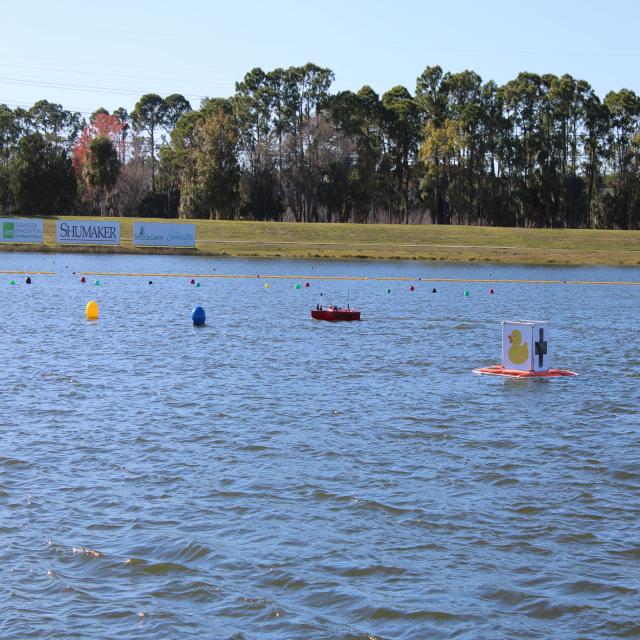blue-buoy: (194, 302, 208, 326)
green-buoy: (464, 290, 470, 296), (387, 287, 392, 293), (10, 280, 14, 286)
red-buoy: (306, 282, 312, 288), (490, 288, 495, 294)
yellow-buoy: (85, 298, 98, 318), (266, 283, 272, 289)
yellow-duck: (508, 328, 531, 366)
